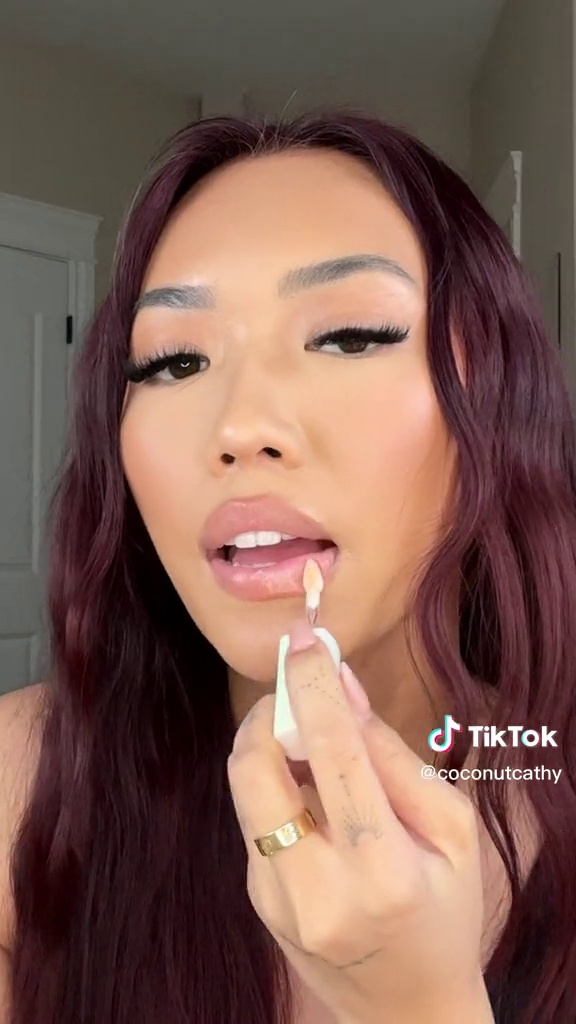train' :'yolo_data/train/images',: (262, 555, 359, 773)
